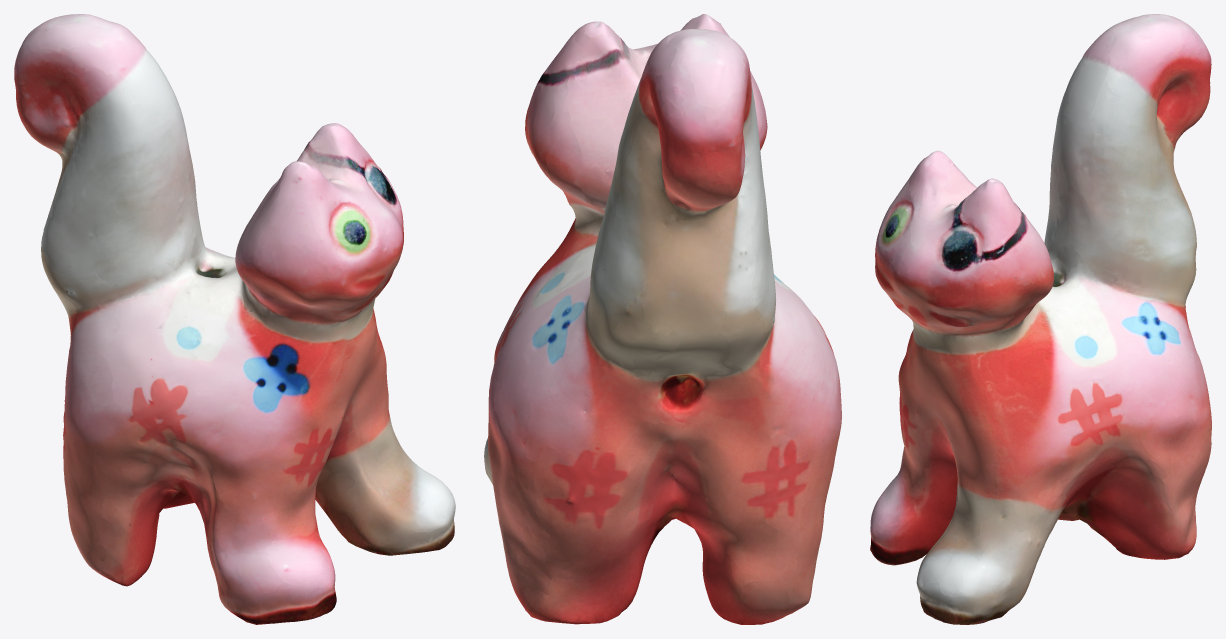
File: asset.glb
3 renders of one model, left to right at view 1: azimuth 30°, elevation 25°; view 2: azimuth 150°, elevation 25°; view 3: azimuth 270°, elevation 25°, orthographic. The views are drawn at different scales.
Parts seen in each view (by area): view 1: Mesh_0; view 2: Mesh_0; view 3: Mesh_0.
Boxes of the visible parts, box(x1,y1,x2,y2) form: Mesh_0: box(14, 14, 455, 624); Mesh_0: box(484, 14, 841, 624); Mesh_0: box(870, 14, 1211, 624).
Size of the model in its own units: 0.8301 by 1.26 by 0.778.
Materials: 1 (1 with a texture image).
